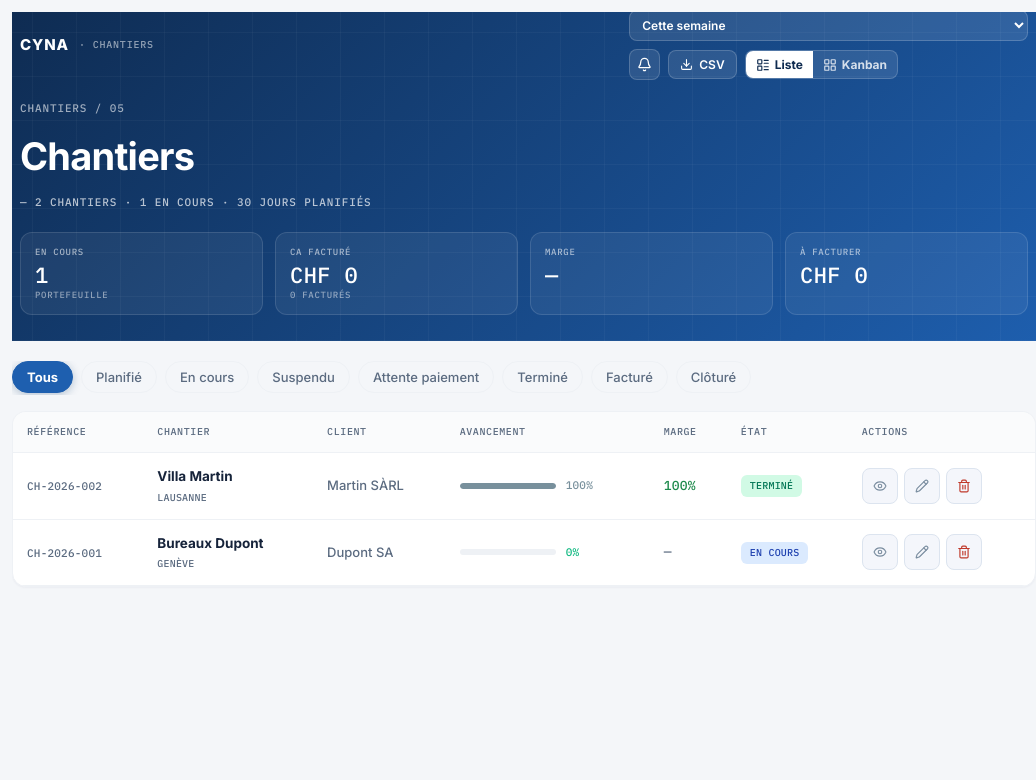
ChantiersPage — liste & filtres › filtre "En cours" → ne montre que le chantier en cours
Click the button "En cours". click: (207, 377)
box: [165,361,249,393]
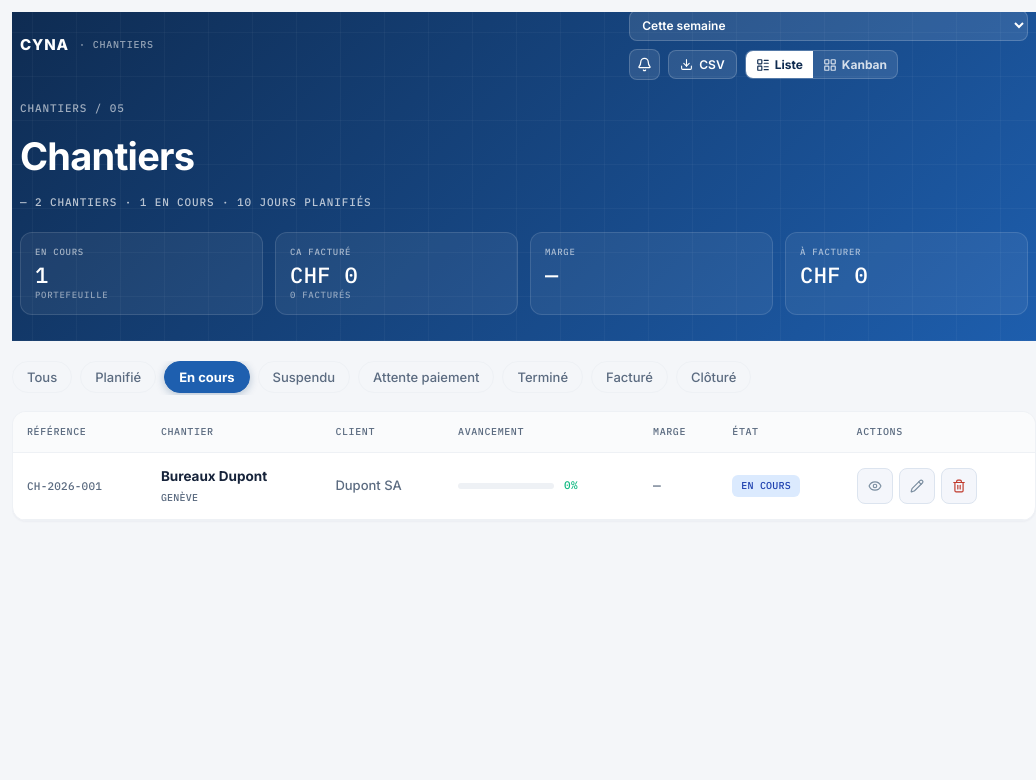
Expected: the text "Bureaux Dupont" is shown, [161,468,267,484]
Now the text "Villa Martin" is gone
